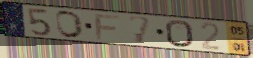2: (199, 21, 223, 52)
5: (26, 6, 54, 37)
7: (127, 15, 152, 46)
F: (93, 13, 122, 41)
O: (164, 19, 196, 49), (54, 9, 85, 39)
